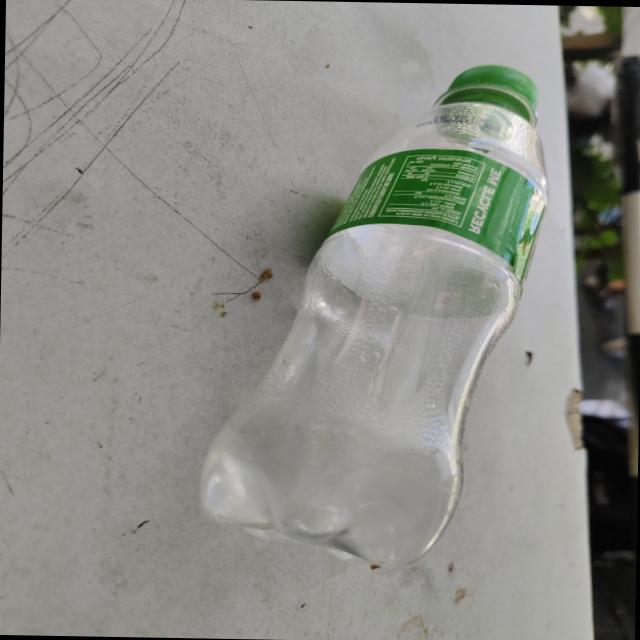Bottle: (201, 64, 548, 568)
